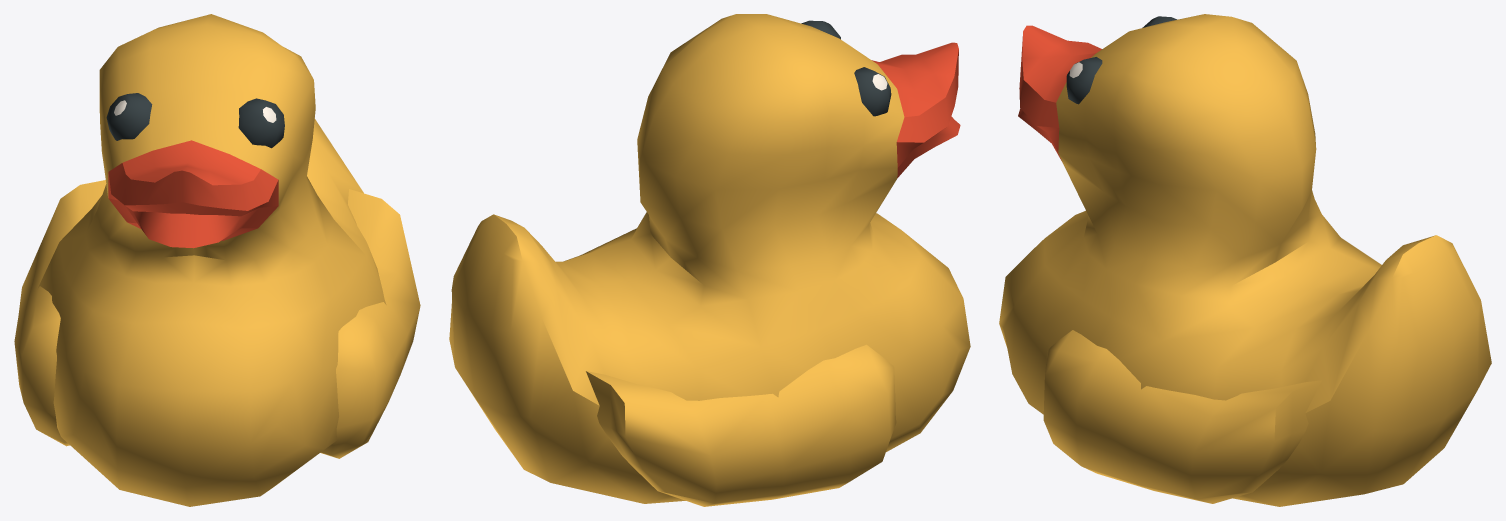
Rendered from RubberDuck.fbx.
The picture shows the model from 3 angles, left to right: view 1: azimuth 30°, elevation 25°; view 2: azimuth 150°, elevation 25°; view 3: azimuth 270°, elevation 25°; orthographic projection.
Parts seen in each view (by area): view 1: RubberDuck; view 2: RubberDuck; view 3: RubberDuck.
Boxes of the visible parts, x1,y1,x2,y2 form: RubberDuck: (14, 14, 420, 506); RubberDuck: (449, 14, 970, 506); RubberDuck: (999, 14, 1491, 506).
Bounding box in the file's own units: 4.15 × 4.42 × 4.57.
